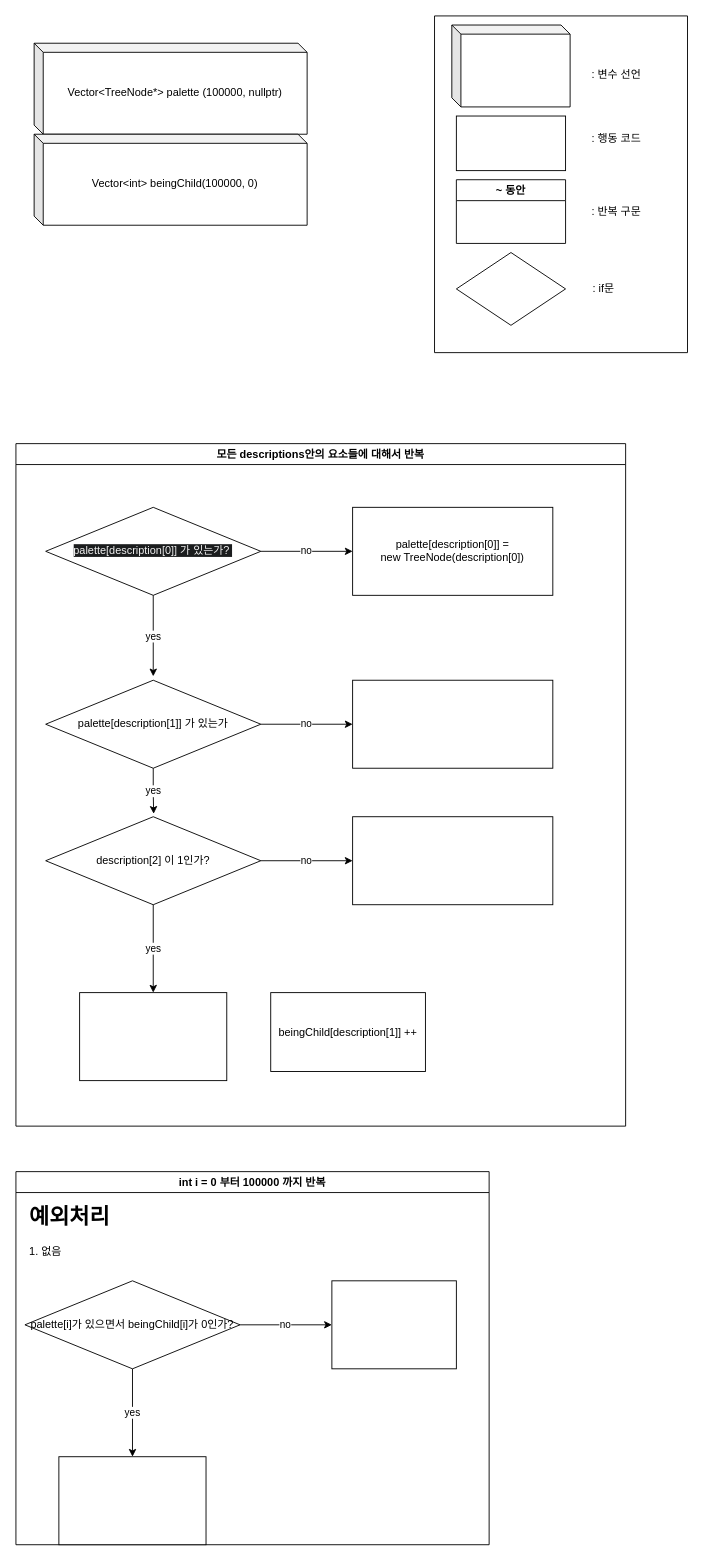
Some shapes in this 703 by 1561 pixel diagram are drawn without their labels. The shapes that lost their labels are listed below. From the top down, each one's centre as x and y in pixels, then its label:
At pixel 452 723: "palette[description[1]] = new TreeNode(description[1])".
At pixel 452 860: "palette[description[0]] -> right = palette[description[1]]".
At pixel 153 1036: "palette[description[0]] -> Left = palette[description[1]]".
At pixel 393 1324: "contuinue".
At pixel 132 1500: "return palette[i]".
